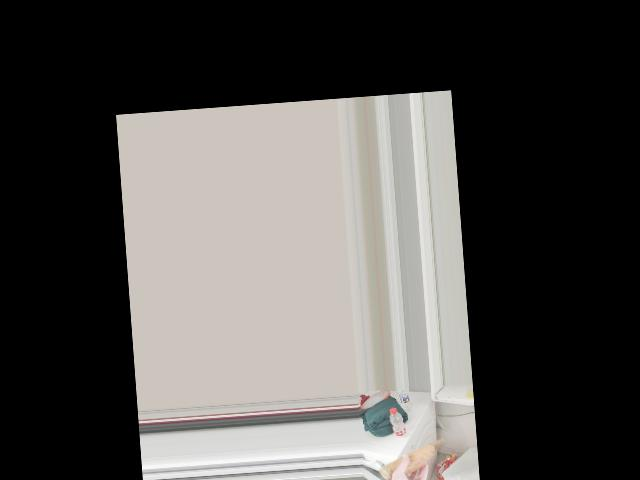sweet_potato: (382, 443, 431, 479)
